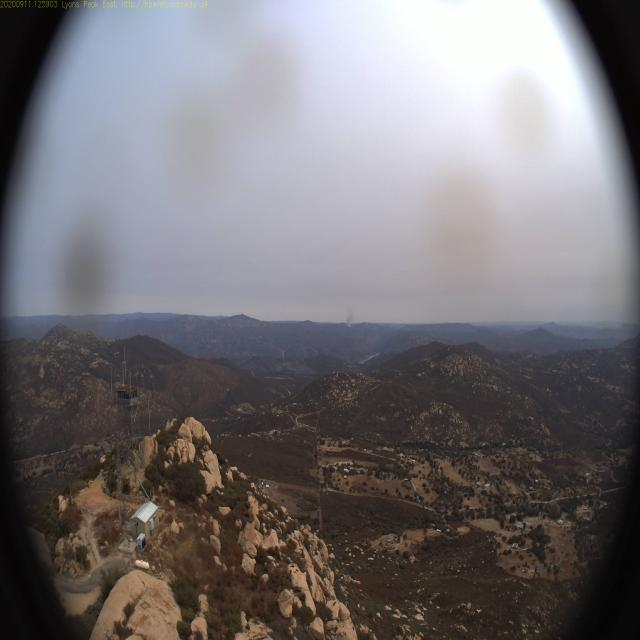smoke: (341, 307, 355, 328)
